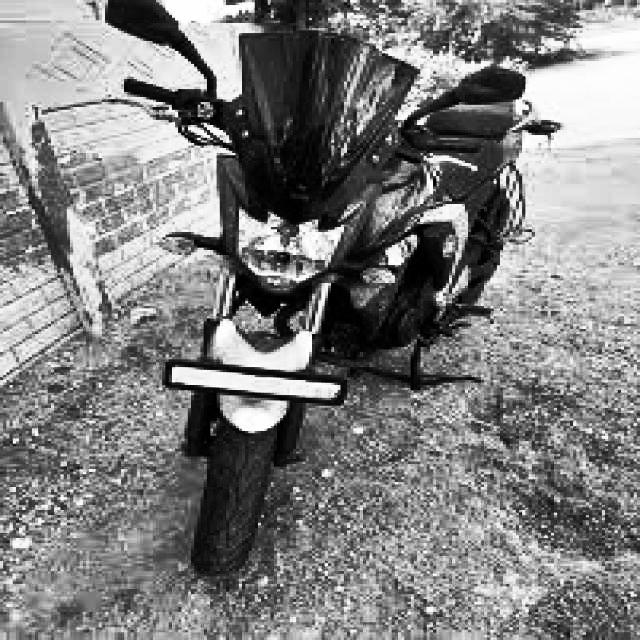Bike: (90, 3, 553, 569)
